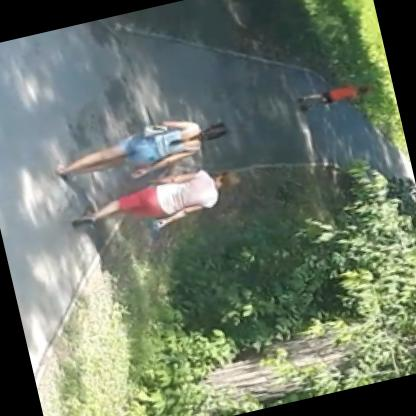Human Body: (47, 94, 240, 199), (61, 160, 253, 254), (286, 67, 380, 122)
